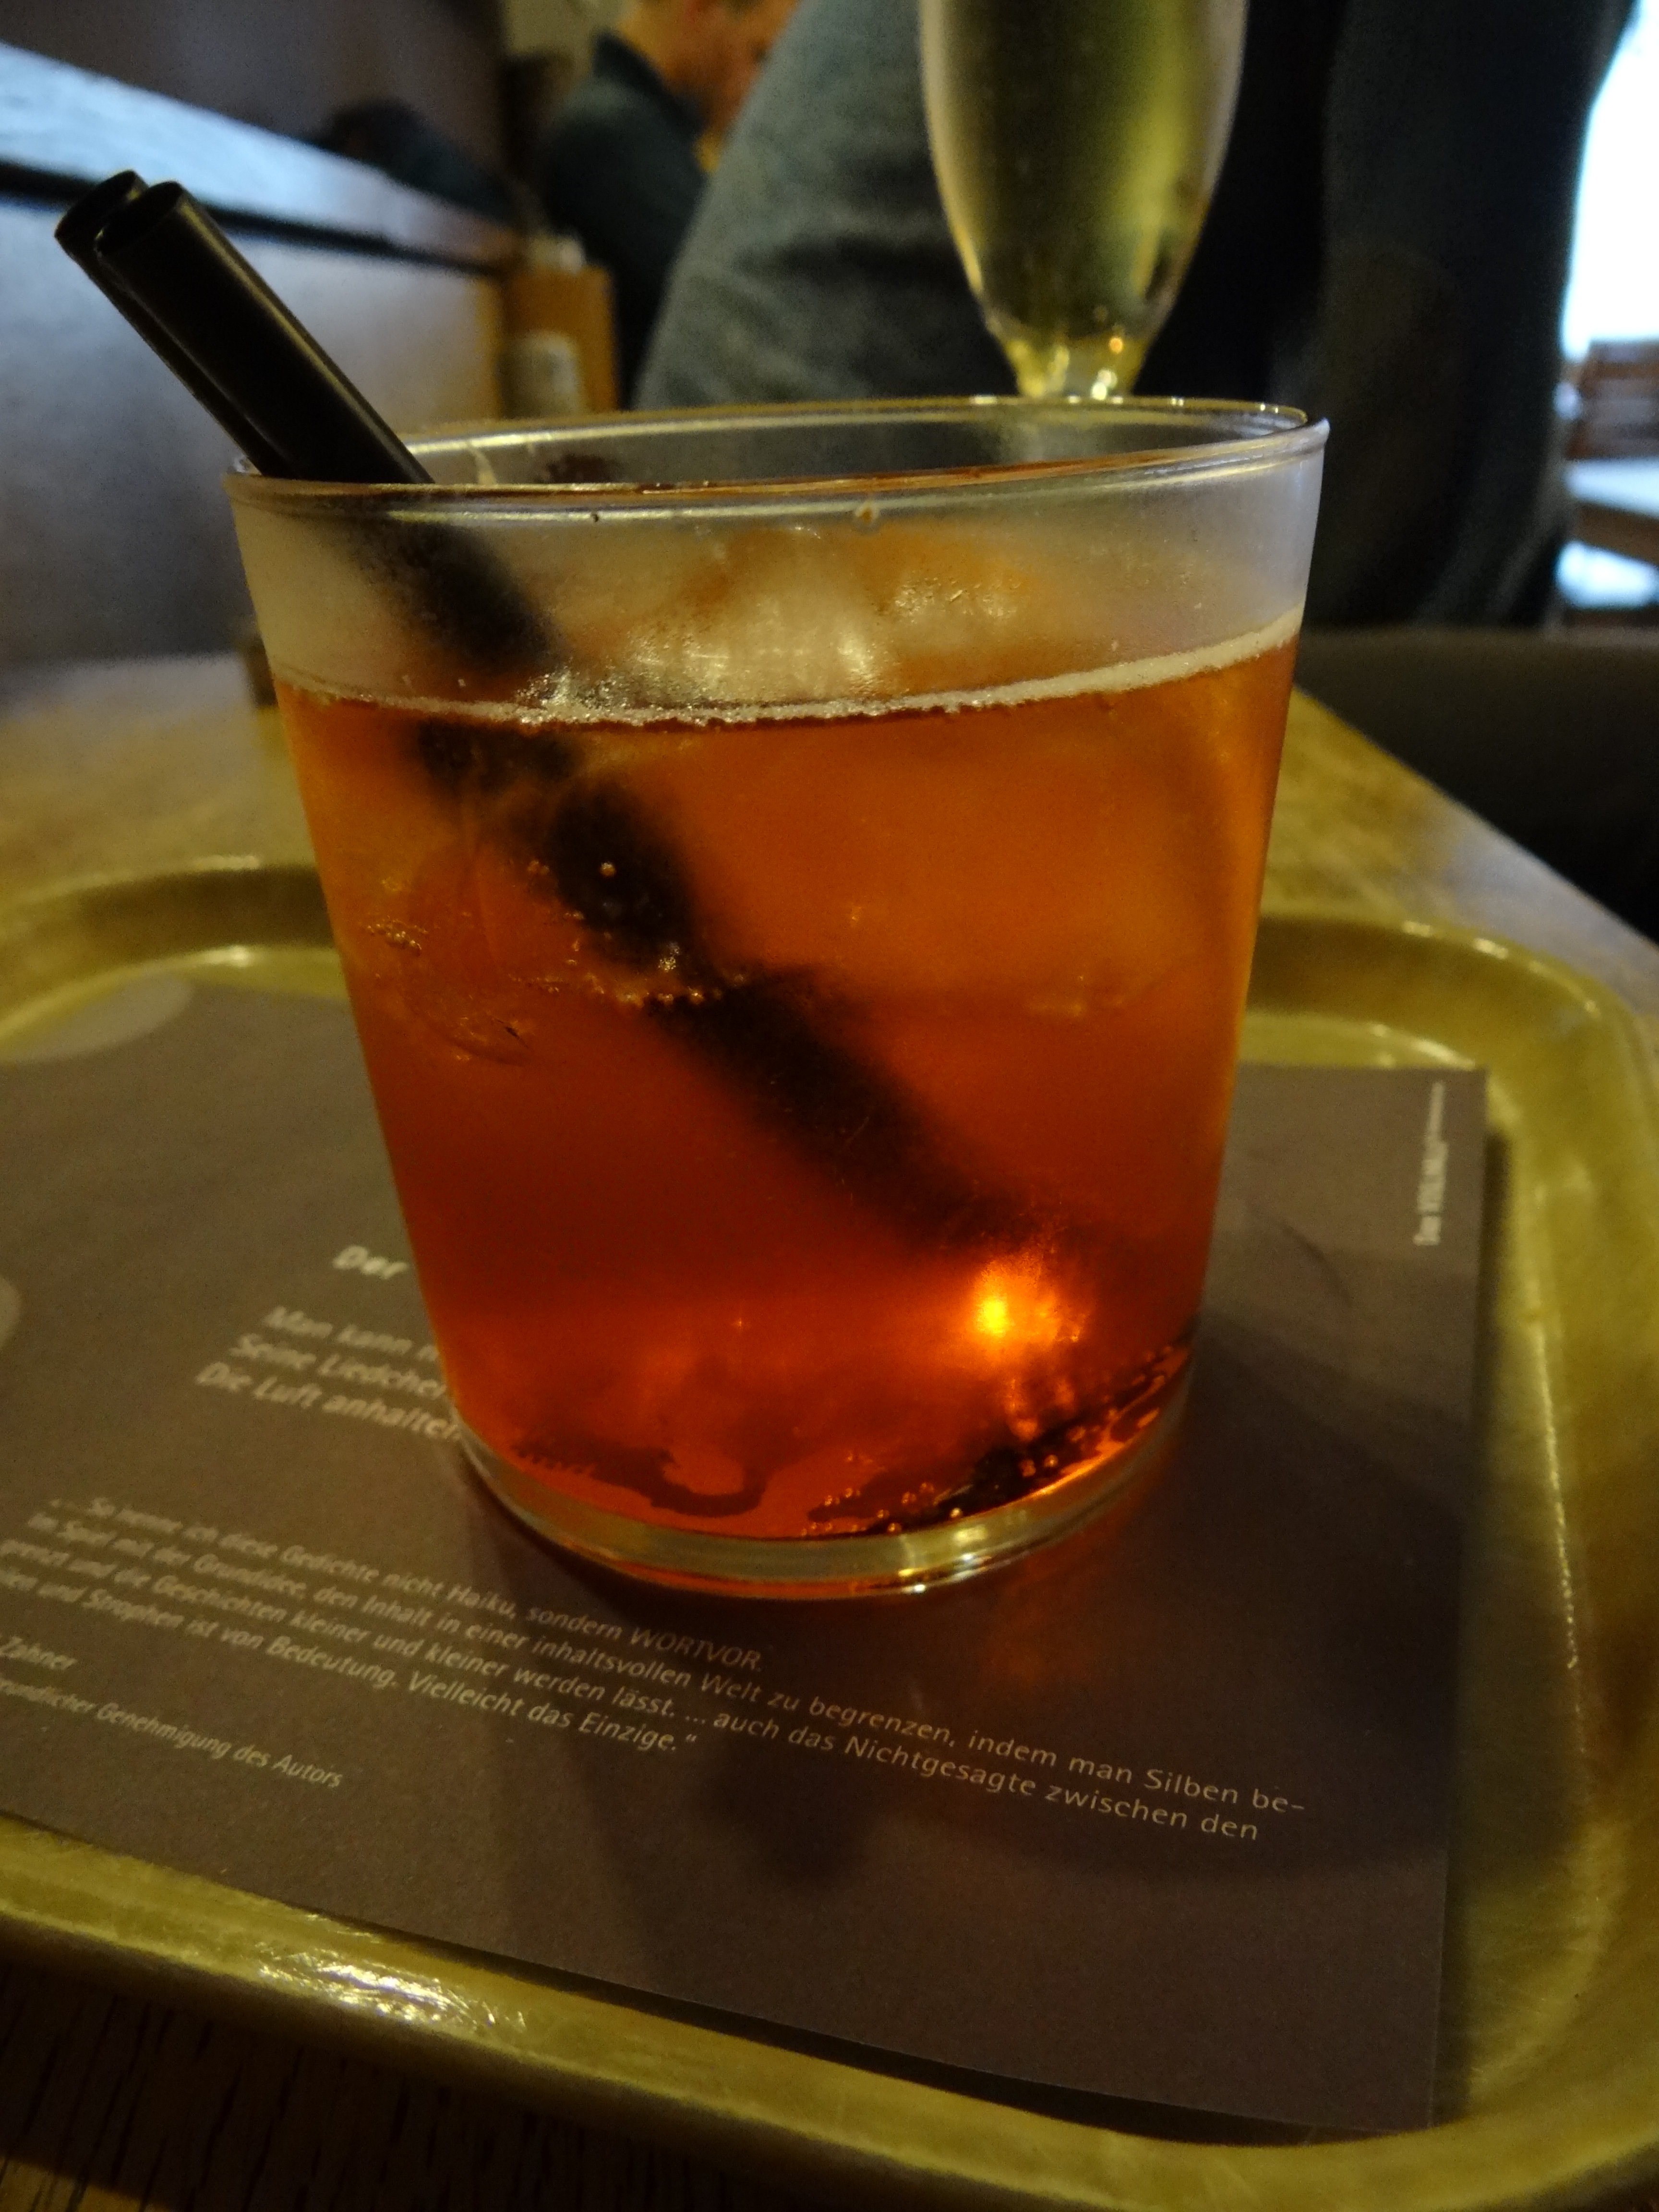Beer: (216, 395, 1338, 1609)
